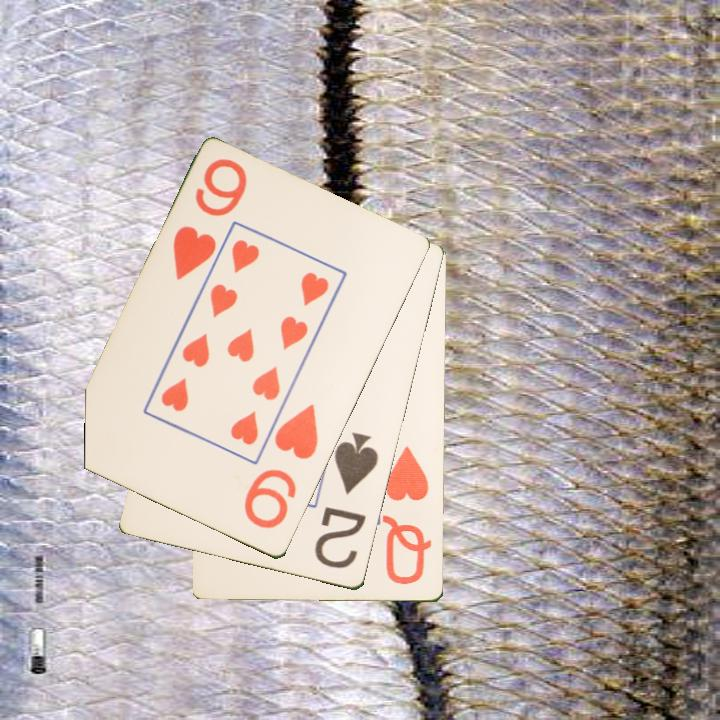2s: (311, 429, 382, 573)
9h: (240, 400, 322, 533), (169, 155, 251, 284)
Qh: (382, 444, 435, 588)
